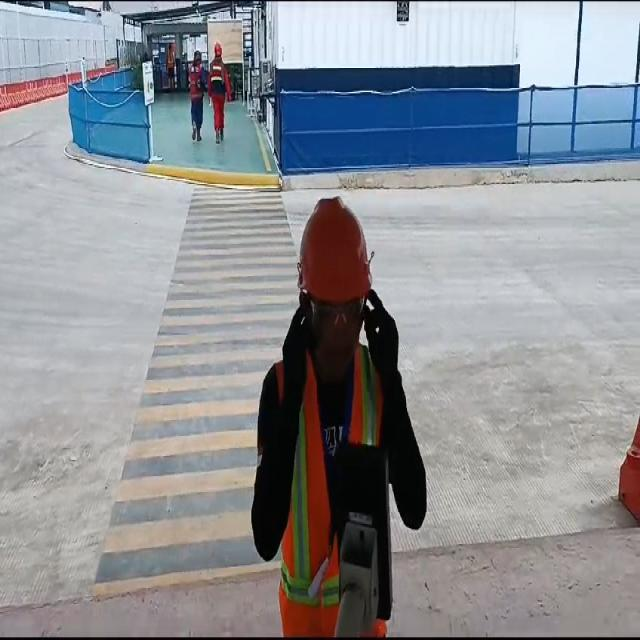gloves: (365, 294, 402, 365), (283, 316, 314, 392)
goggles: (310, 298, 366, 329)
helmet: (294, 195, 374, 303), (213, 42, 226, 59)
safety_vest: (209, 63, 228, 103), (189, 66, 203, 98)
